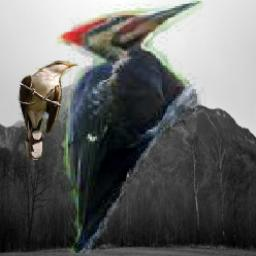Cuckoo: (19, 61, 79, 160)
Woodpecker: (57, 0, 205, 254)
